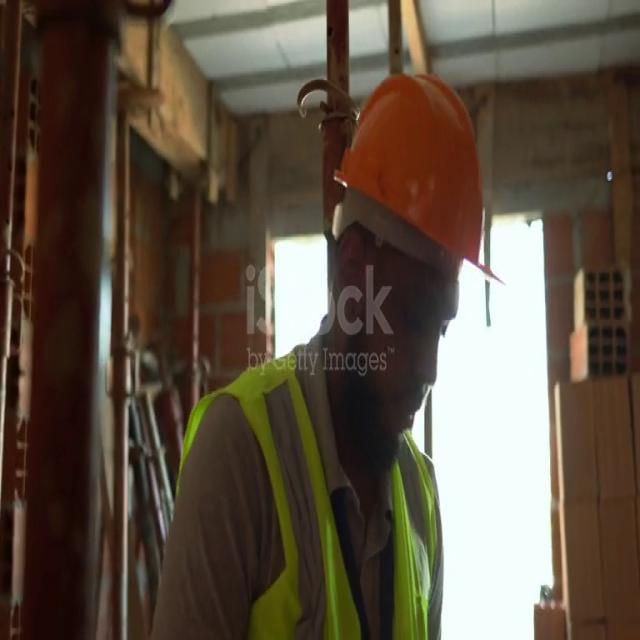capacete: (326, 69, 486, 290)
